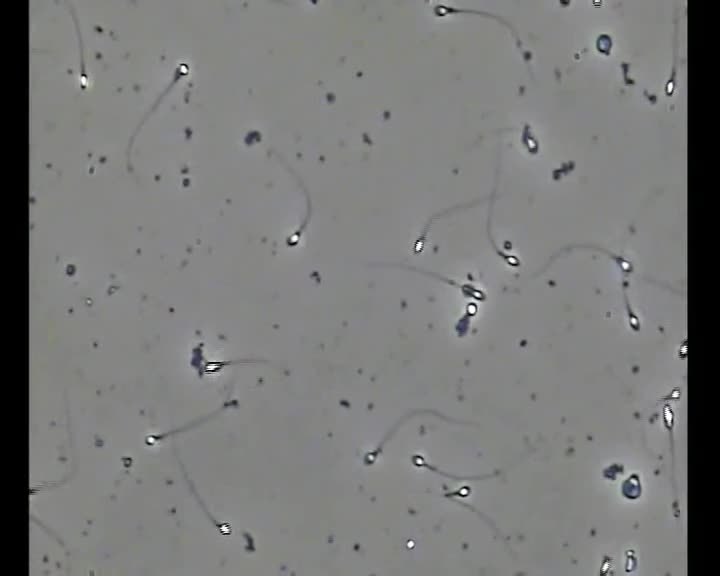spermhead: (521, 123, 538, 154), (621, 474, 641, 499), (462, 283, 486, 301), (191, 343, 205, 371), (595, 33, 612, 55), (201, 361, 226, 374), (624, 549, 637, 574), (433, 3, 456, 17), (603, 463, 623, 479), (662, 403, 674, 429), (455, 314, 469, 336), (664, 70, 675, 96), (599, 555, 613, 575), (286, 229, 301, 246), (617, 257, 632, 273), (454, 484, 471, 498), (413, 235, 425, 254), (175, 63, 190, 78), (503, 254, 519, 268), (411, 453, 426, 467), (628, 311, 639, 330), (465, 301, 478, 317), (144, 433, 160, 446), (78, 72, 89, 90), (363, 451, 377, 465), (216, 522, 231, 535), (667, 386, 680, 400), (678, 338, 686, 358), (121, 456, 132, 469), (223, 399, 239, 407), (407, 538, 415, 549), (28, 488, 37, 494), (593, 0, 600, 7)
